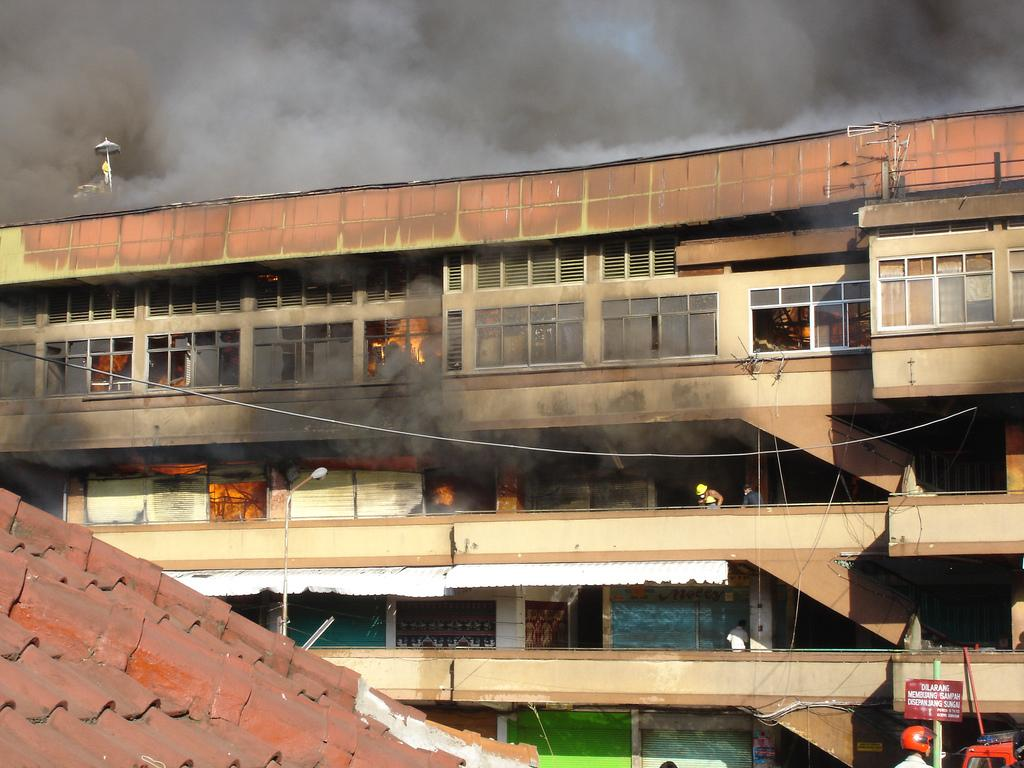fire: (208, 468, 262, 526), (374, 316, 430, 370), (88, 352, 138, 380), (160, 456, 210, 484), (498, 468, 522, 514), (432, 470, 460, 508)
smoke: (16, 14, 756, 128)
